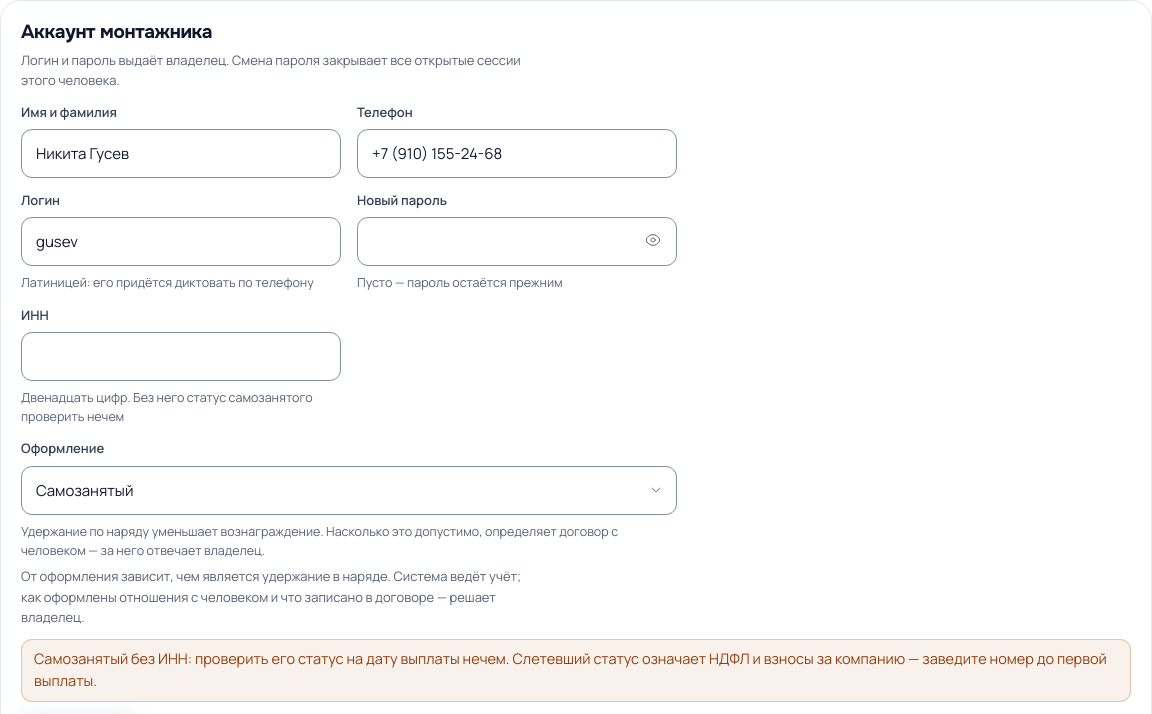
Test case: Учётная запись монтажника — ИНН › заполненный ИНН убирает предупреждение ещё до сохранения
Type "710703123450" into the field labelled "ИНН". click: (181, 356)
box: [21,332,341,381]
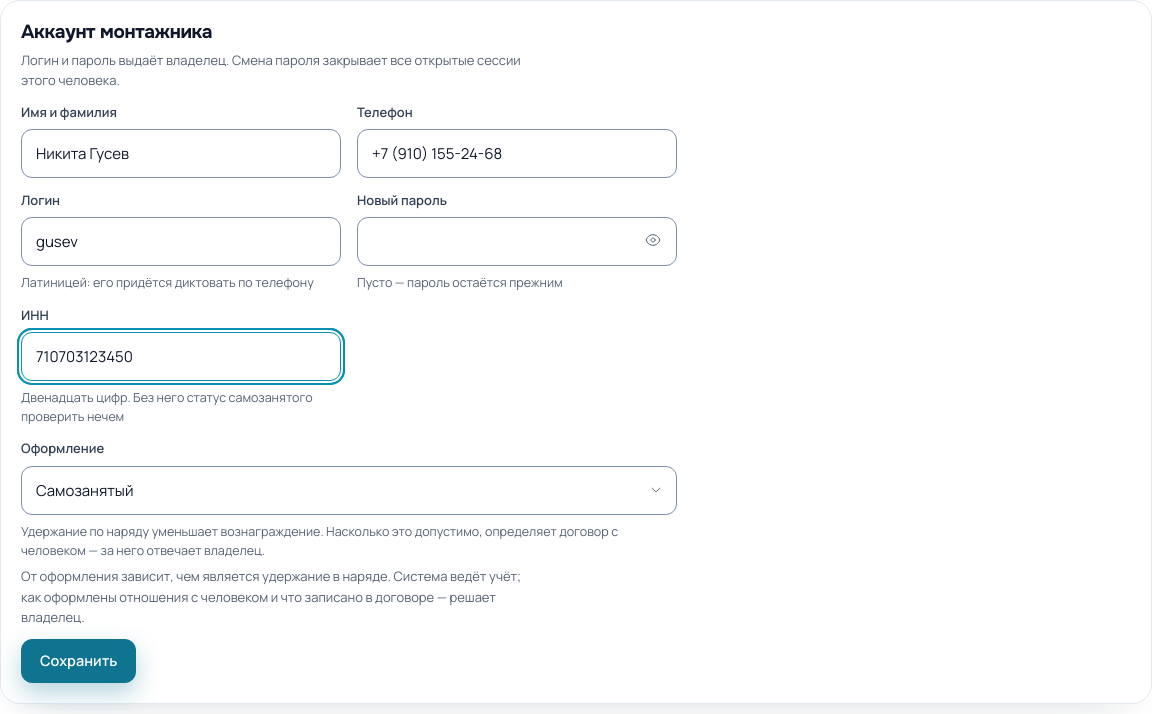
Expected: the text "Самозанятый без ИНН: проверить его статус на дату выплаты нечем. Слетевший статус означает НДФЛ и взносы за компанию — з" is gone
